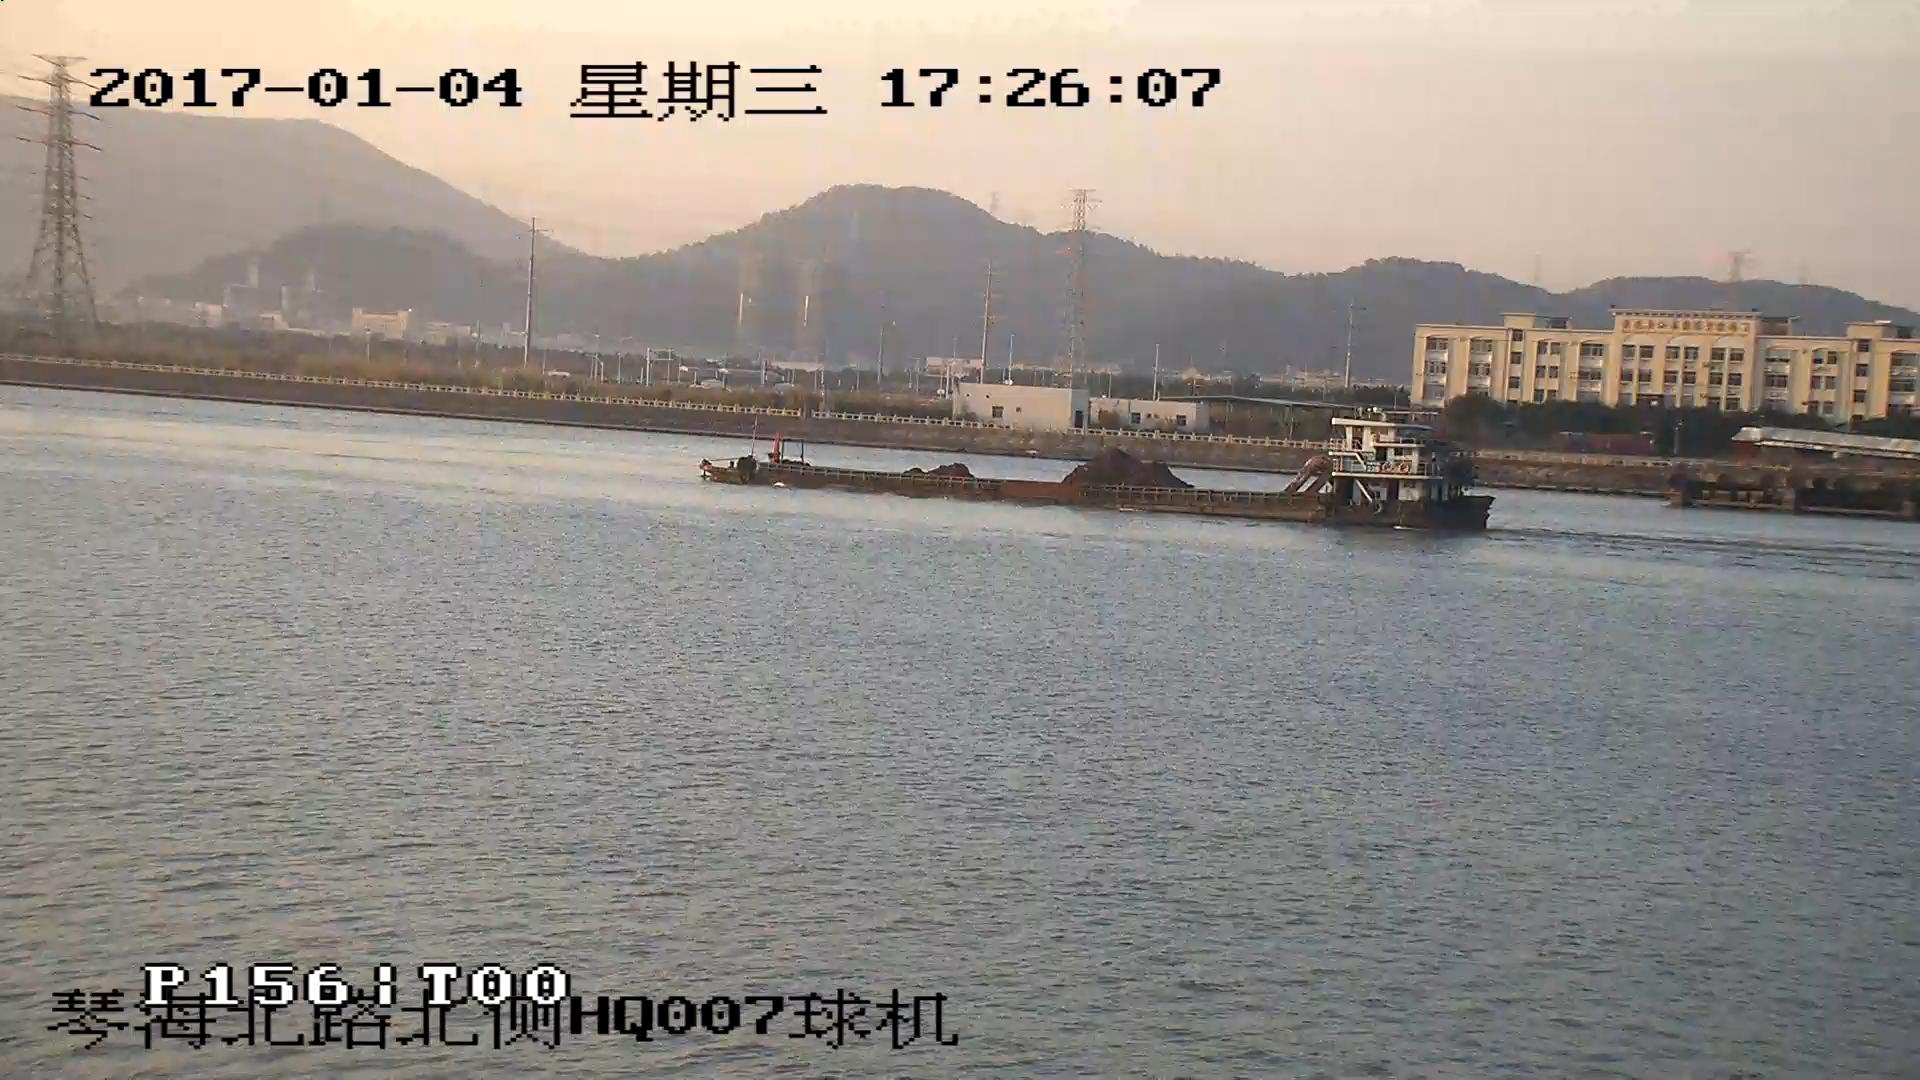ore carrier: (702, 417, 1491, 532)
